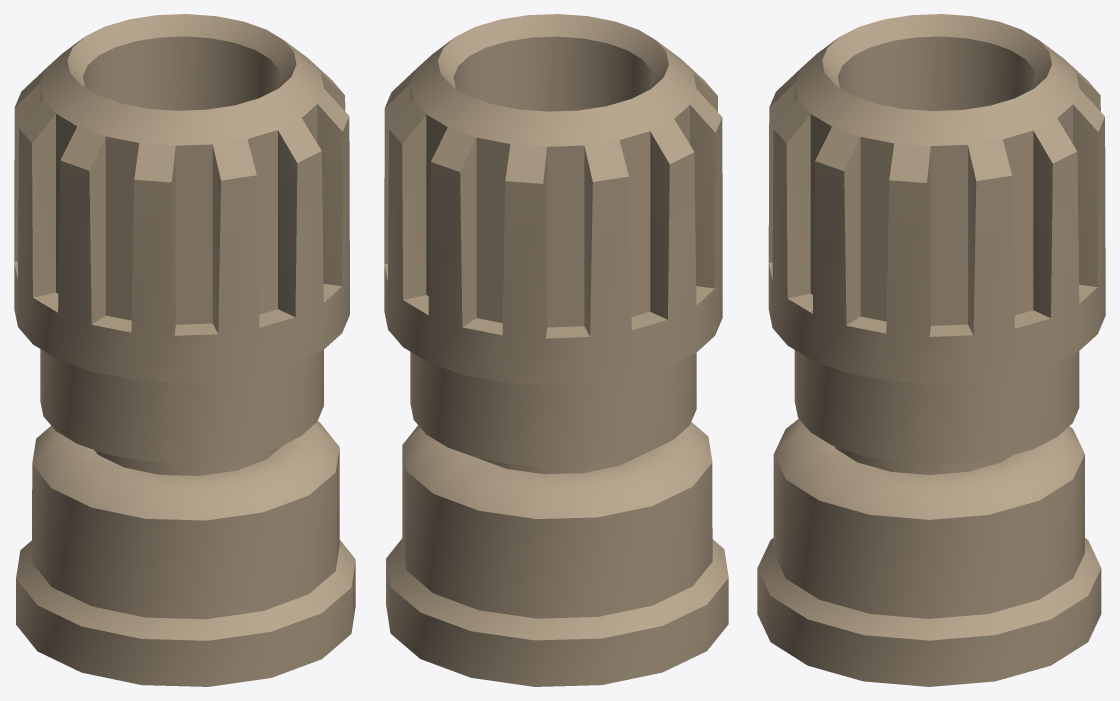
File: PotarType2.fbx
The picture shows the model from 3 angles, left to right: view 1: azimuth 30°, elevation 25°; view 2: azimuth 150°, elevation 25°; view 3: azimuth 270°, elevation 25°; orthographic projection.
Parts seen in each view (by area): view 1: Potar10; view 2: Potar10; view 3: Potar10.
Part boxes in pixels (x1,y1,x2,y2): Potar10: (14,14,355,686); Potar10: (384,14,728,686); Potar10: (757,14,1105,686).
Size of the model in its own units: 3.78 by 6.69 by 3.83.
